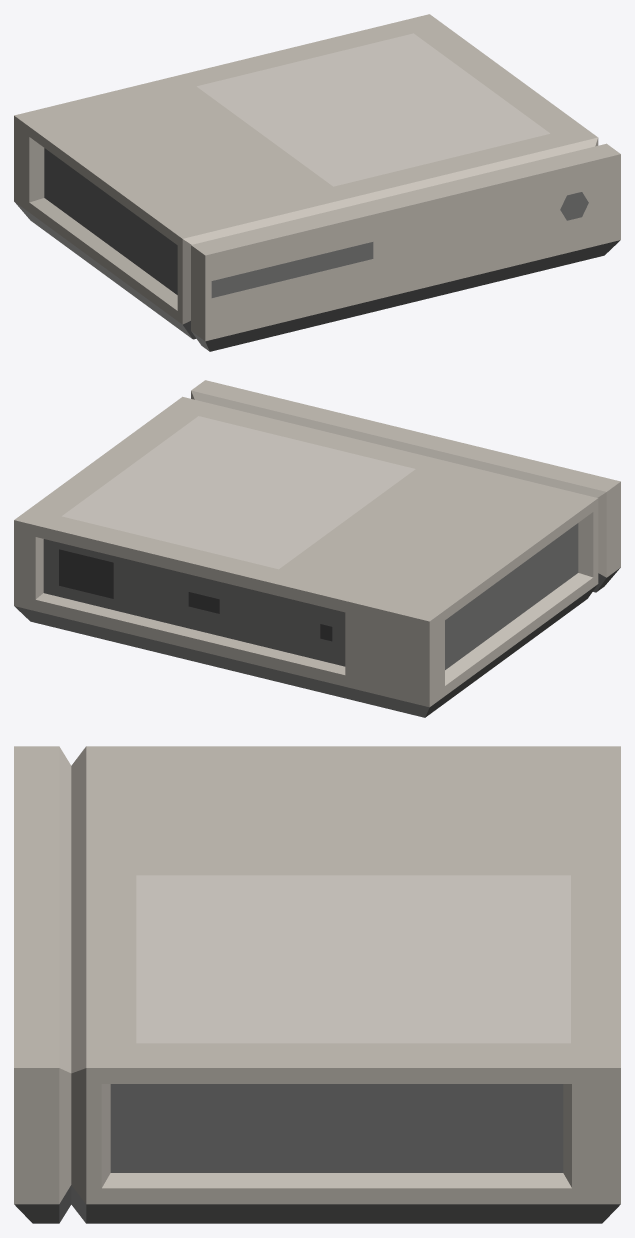
Rendered from SM_Prop_Game_Console_01.fbx.
3 views of the same model, one above another, from view 1: azimuth 30°, elevation 25°; view 2: azimuth 150°, elevation 25°; view 3: azimuth 270°, elevation 25° (orthographic). The views are drawn at different scales.
Parts seen in each view (by area): view 1: SM_Prop_Game_Console_01; view 2: SM_Prop_Game_Console_01; view 3: SM_Prop_Game_Console_01.
Boxes of the visible parts, <box> form: SM_Prop_Game_Console_01: <box>14,14,620,351</box>; SM_Prop_Game_Console_01: <box>14,380,620,717</box>; SM_Prop_Game_Console_01: <box>14,746,620,1223</box>.
Size of the model in its own units: 46.1 by 10.94 by 36.75.
